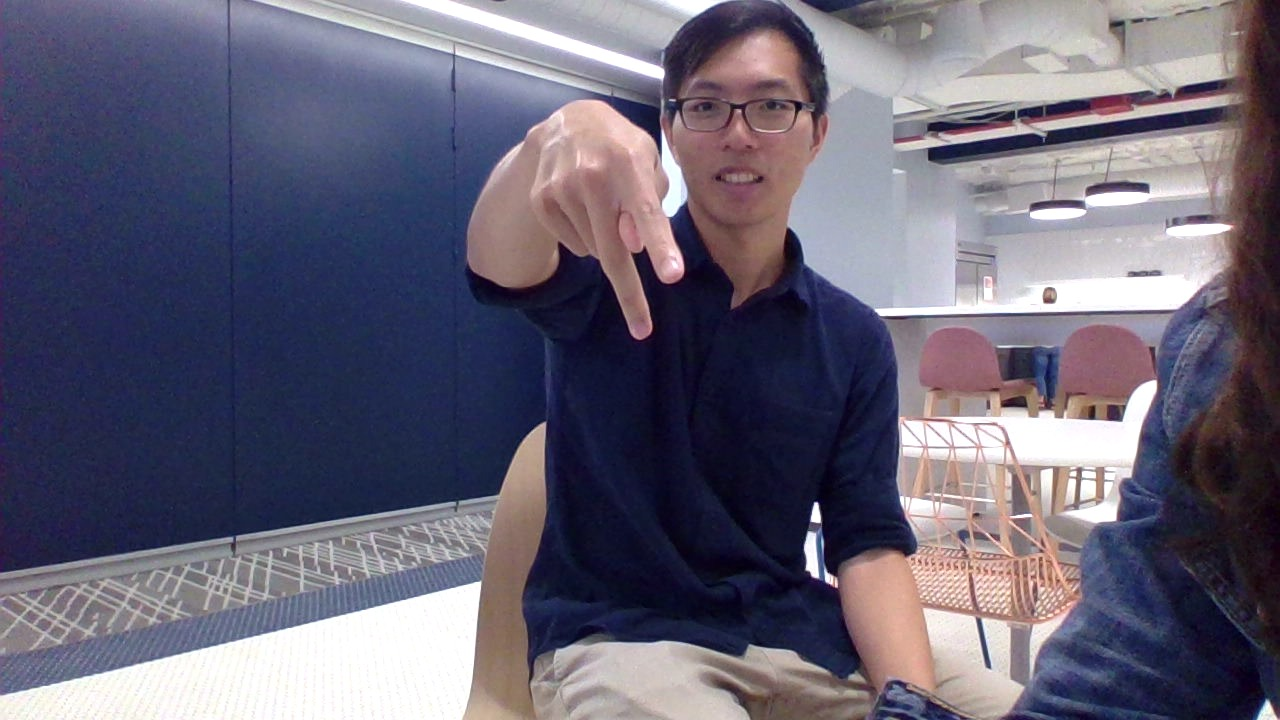p: (522, 90, 694, 373)
